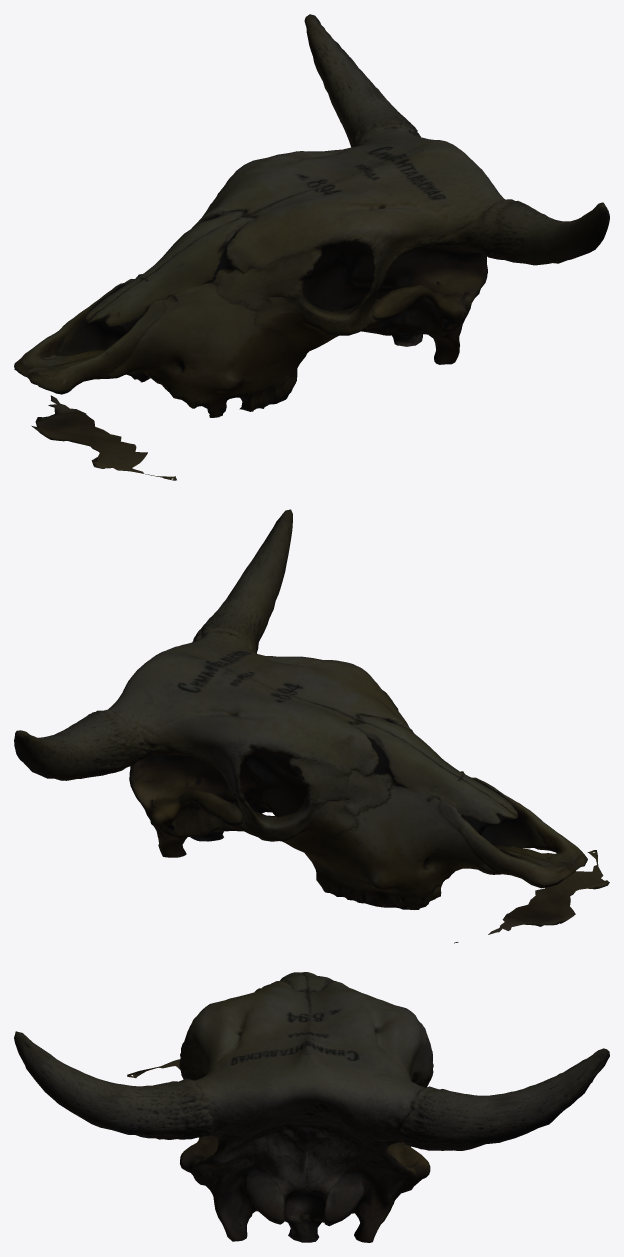
The model's file is model_obj-Simm.glb.
3 views of the same model, one above another, from view 1: azimuth 30°, elevation 25°; view 2: azimuth 150°, elevation 25°; view 3: azimuth 270°, elevation 25° (orthographic). The views are drawn at different scales.
Parts seen in each view (by area): view 1: Node1; view 2: Node1; view 3: Node1.
Boxes of the visible parts, x1=… form: Node1: x1=14, y1=14, x2=609, y2=480; Node1: x1=14, y1=509, x2=609, y2=943; Node1: x1=14, y1=972, x2=609, y2=1242.
Bounding box in the file's own units: 0.5362 × 0.2494 × 0.5831.
1 material, 1 textured.
